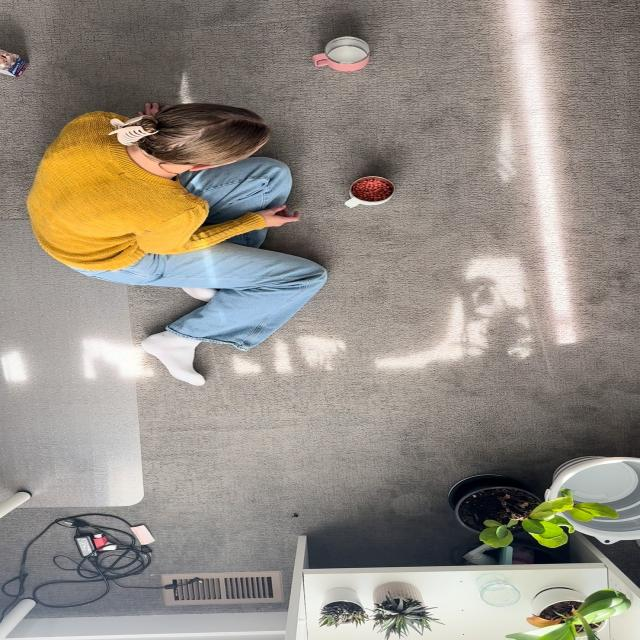IBC: (312, 36, 370, 72), (344, 176, 394, 208)
